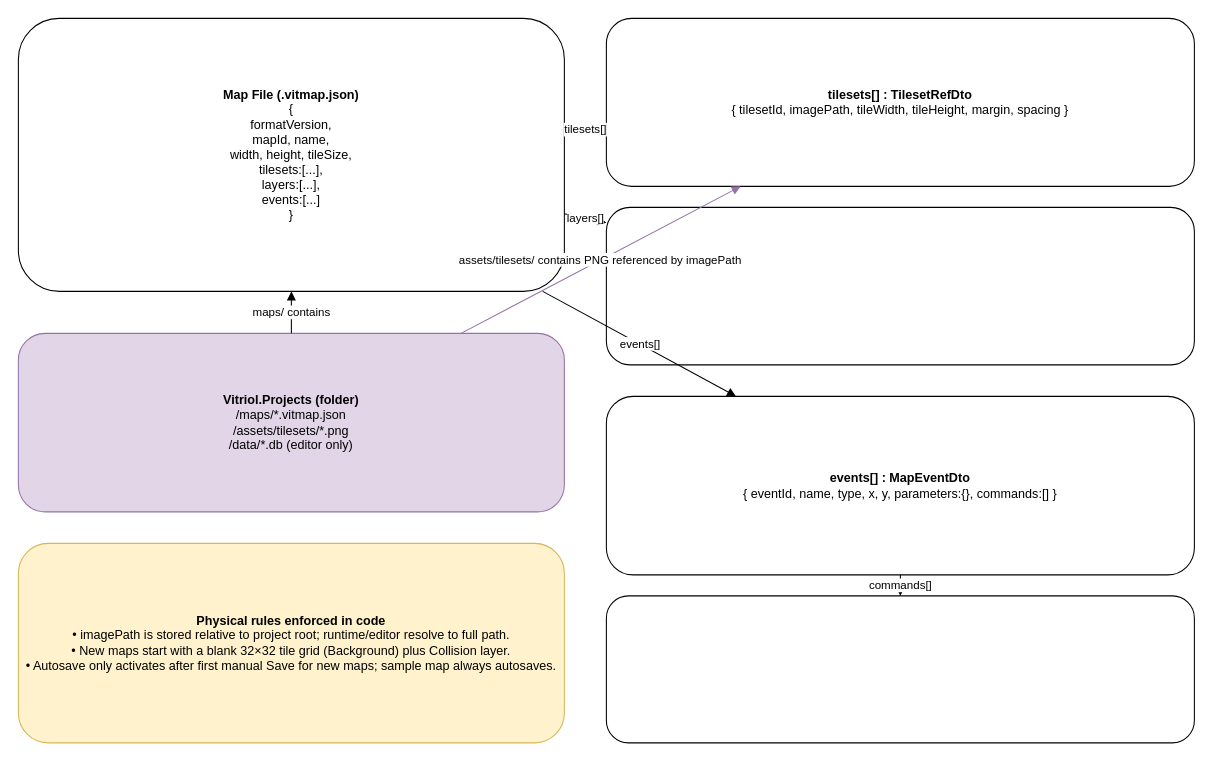
Some shapes in this 1213 by 761 pixel diagram are drawn without their labels. The centre of each missing label's shape, as x and y in pixels:
commands[] : EventCommandDto { command, args:{} } (order matters): point (899, 669)
layers[] : TileLayerDto { layerId, name, kind, visible, tiles:int[] }: point (899, 285)
